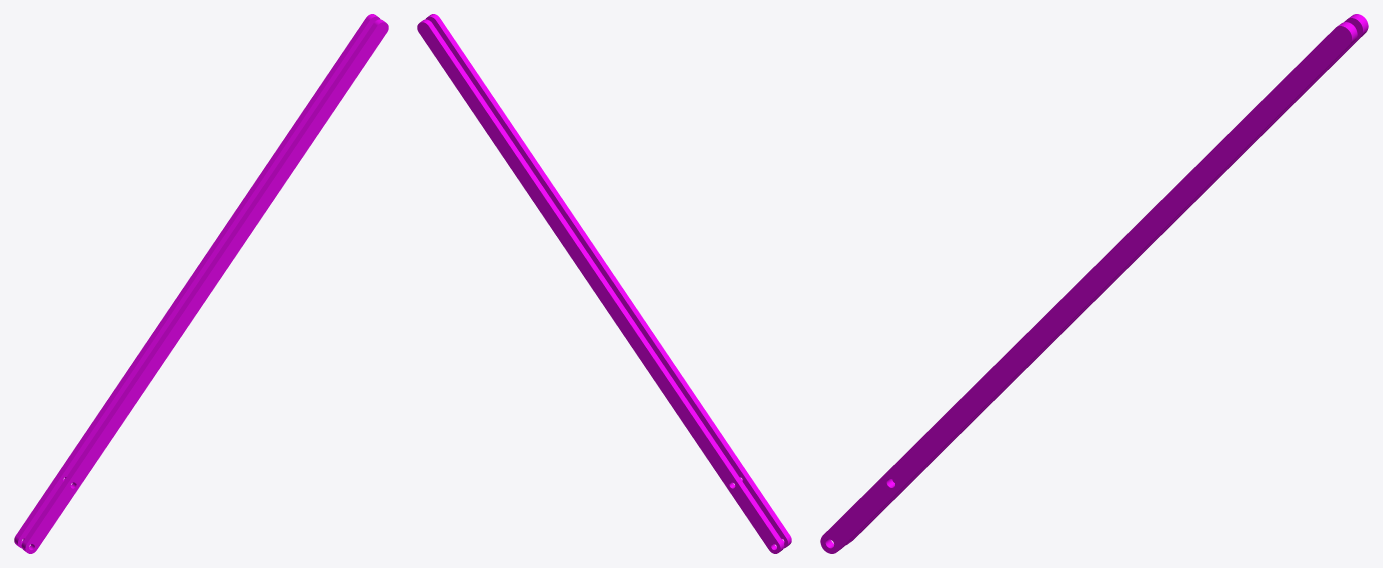
3 renders of one model, left to right at view 1: azimuth 30°, elevation 25°; view 2: azimuth 150°, elevation 25°; view 3: azimuth 330°, elevation 25°, orthographic. The views are drawn at different scales.
Bounding box in the file's own units: 1.07 × 1.25 × 0.0574.
